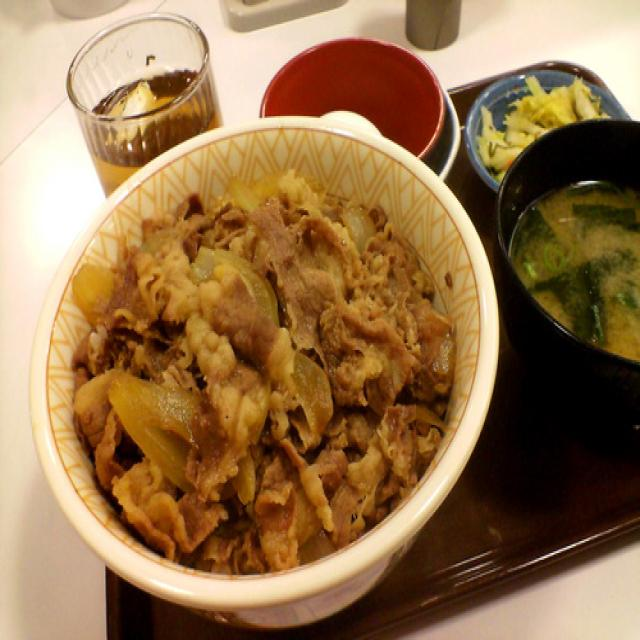汤锅炖物: (487, 105, 640, 428)
